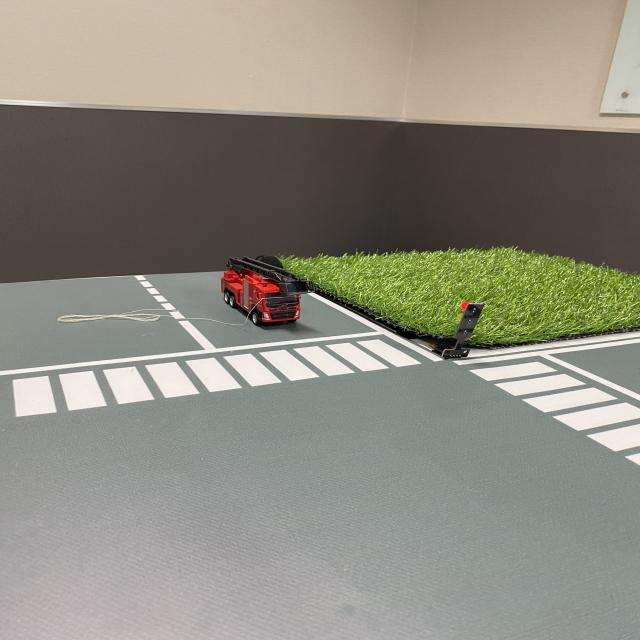Fire Truck: (216, 251, 318, 333)
